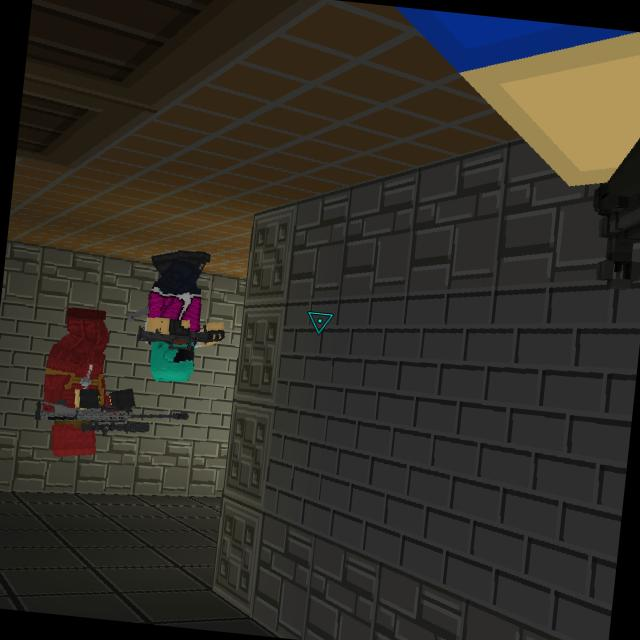enemy: (33, 302, 144, 471), (136, 248, 235, 396)
